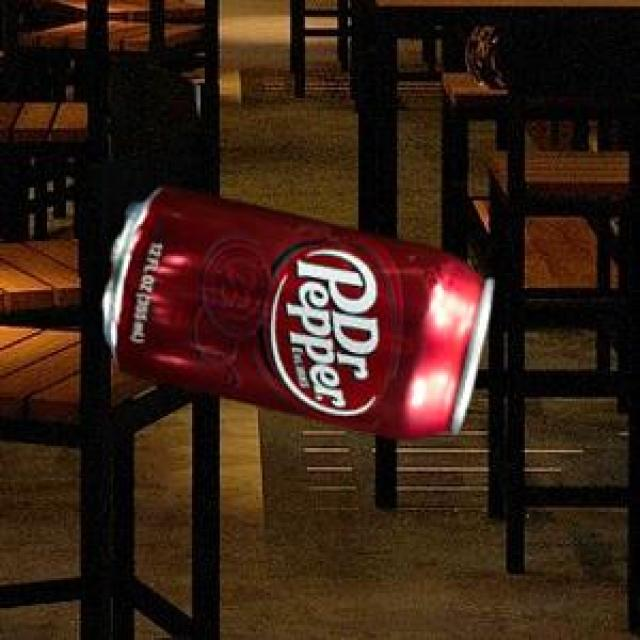logam: (99, 182, 489, 436)
